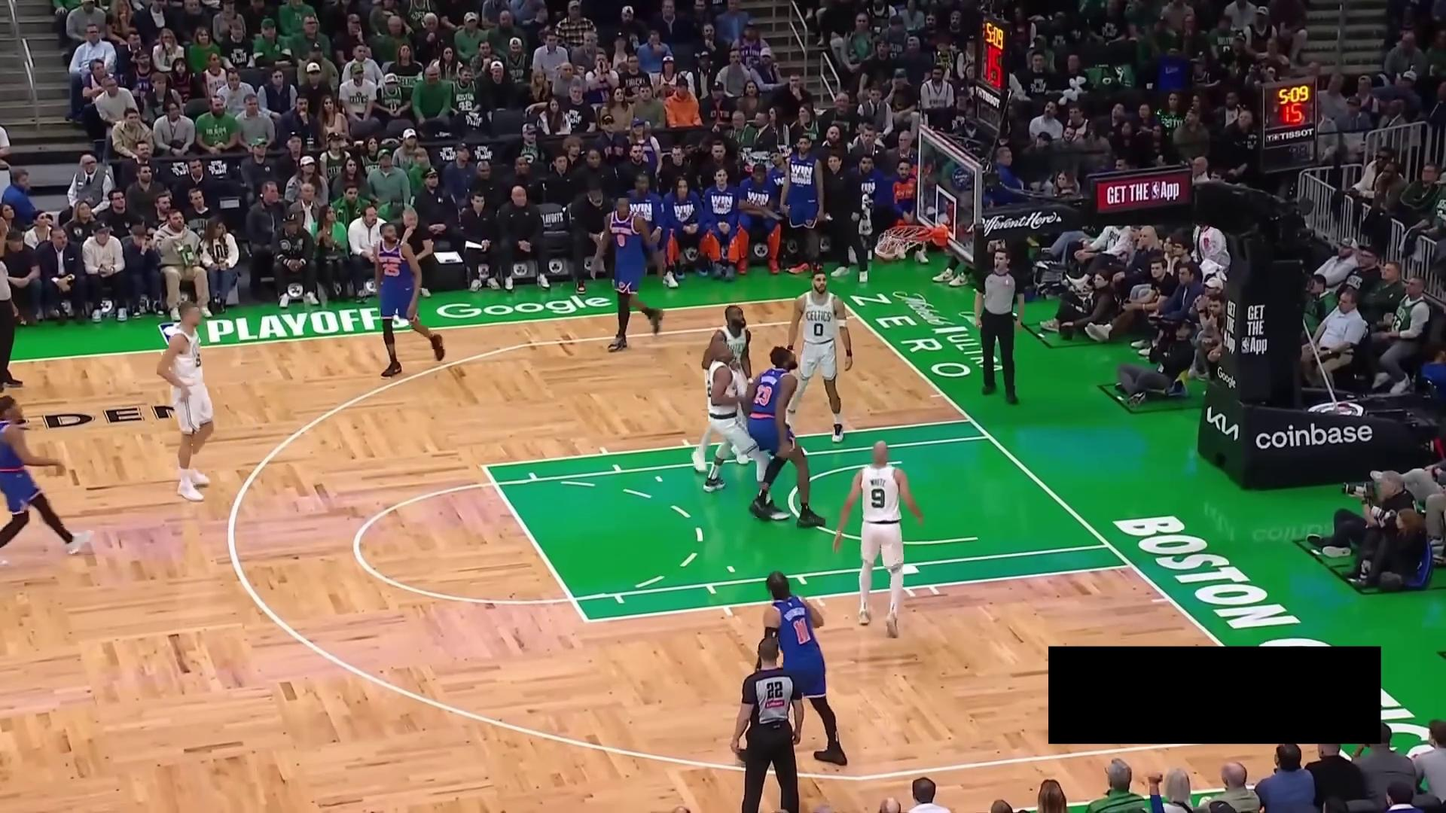ball: (875, 239, 902, 263)
ball-in-basket: (875, 224, 934, 263)
number: (792, 616, 811, 645), (754, 383, 773, 407), (871, 488, 886, 509), (383, 262, 400, 276), (812, 321, 825, 338), (616, 233, 625, 247), (195, 352, 202, 367)
player: (831, 438, 925, 639), (756, 569, 850, 769), (700, 338, 792, 522), (0, 393, 93, 569), (743, 344, 828, 529), (156, 300, 217, 503), (590, 193, 667, 353), (785, 269, 854, 444), (371, 220, 446, 378), (691, 303, 756, 474)
referee: (731, 635, 804, 813), (973, 245, 1027, 405), (0, 215, 33, 395)
rim: (885, 224, 933, 241)
